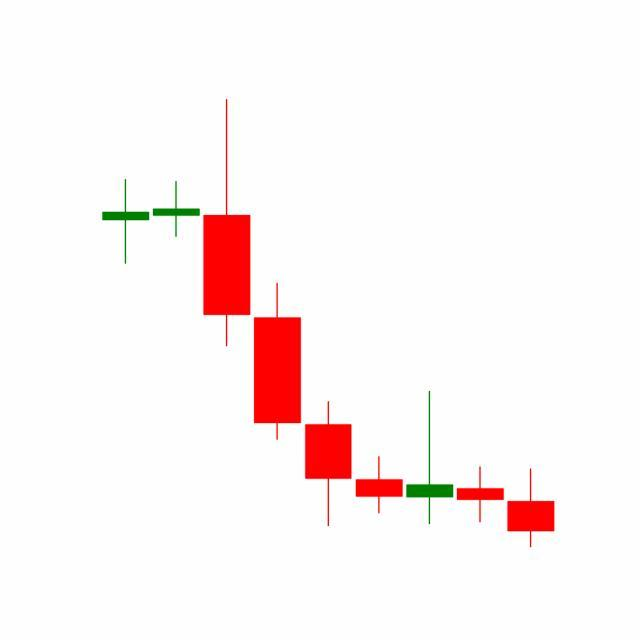Hikkake Pattern: (302, 389, 555, 549)
